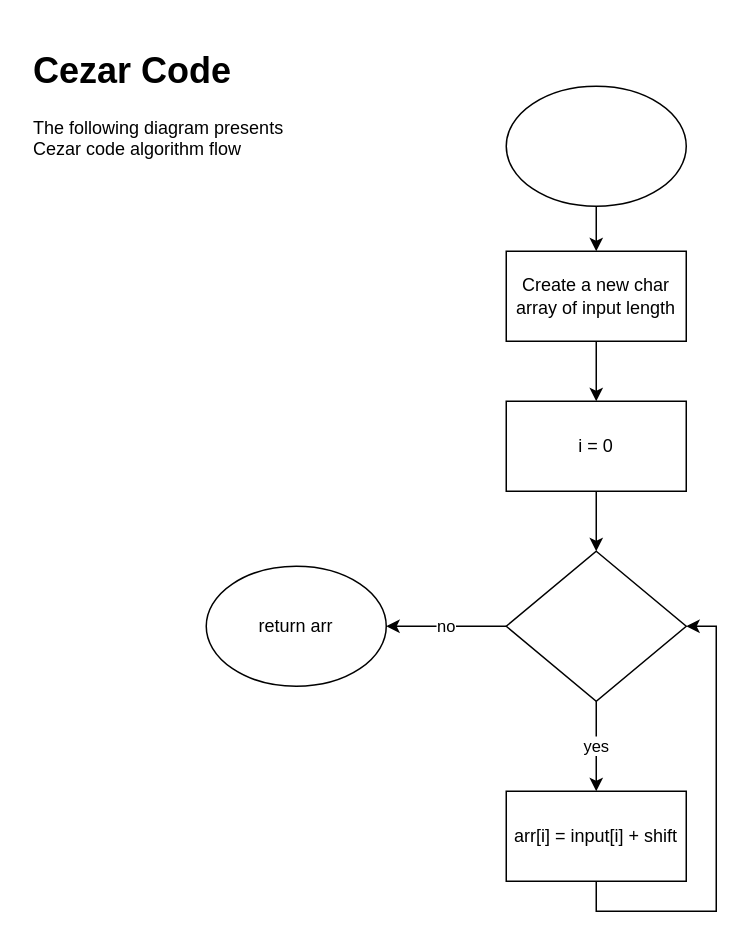
Image size: 755x950. Some labels were removed from this diagram. The centre of each missing label's shape, as x and y in pixels:
"i < input.Length" goes at point (595, 625).
"Start (string input, int shift)" goes at point (595, 145).
